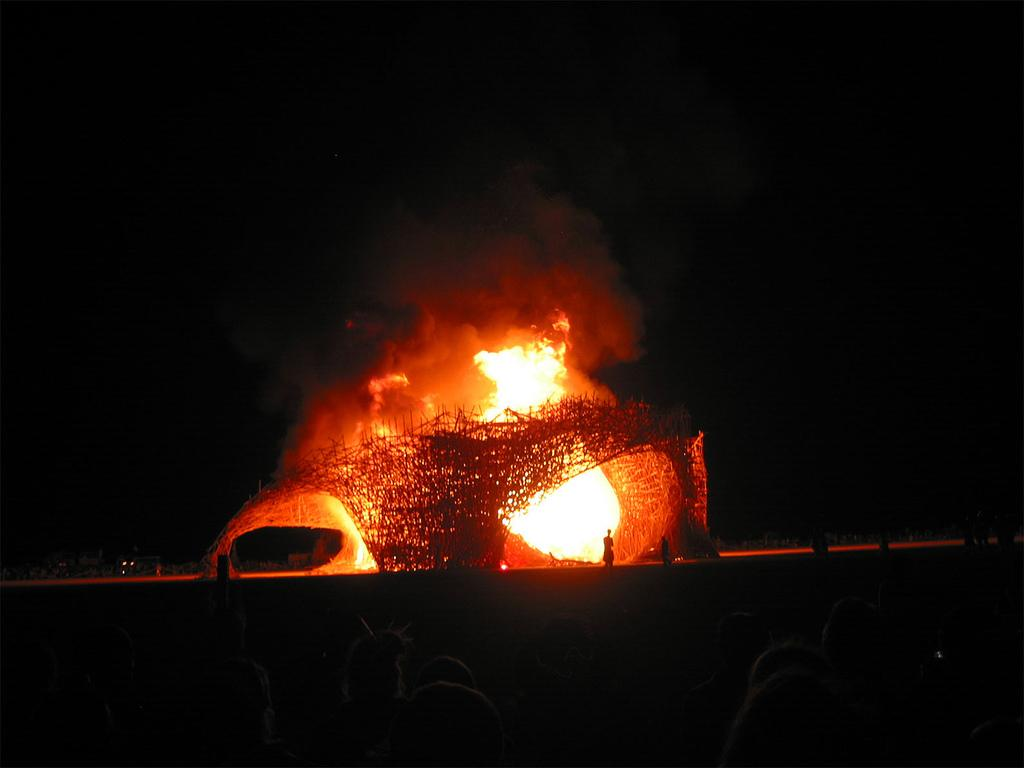fire: (530, 478, 618, 554), (490, 348, 546, 404)
